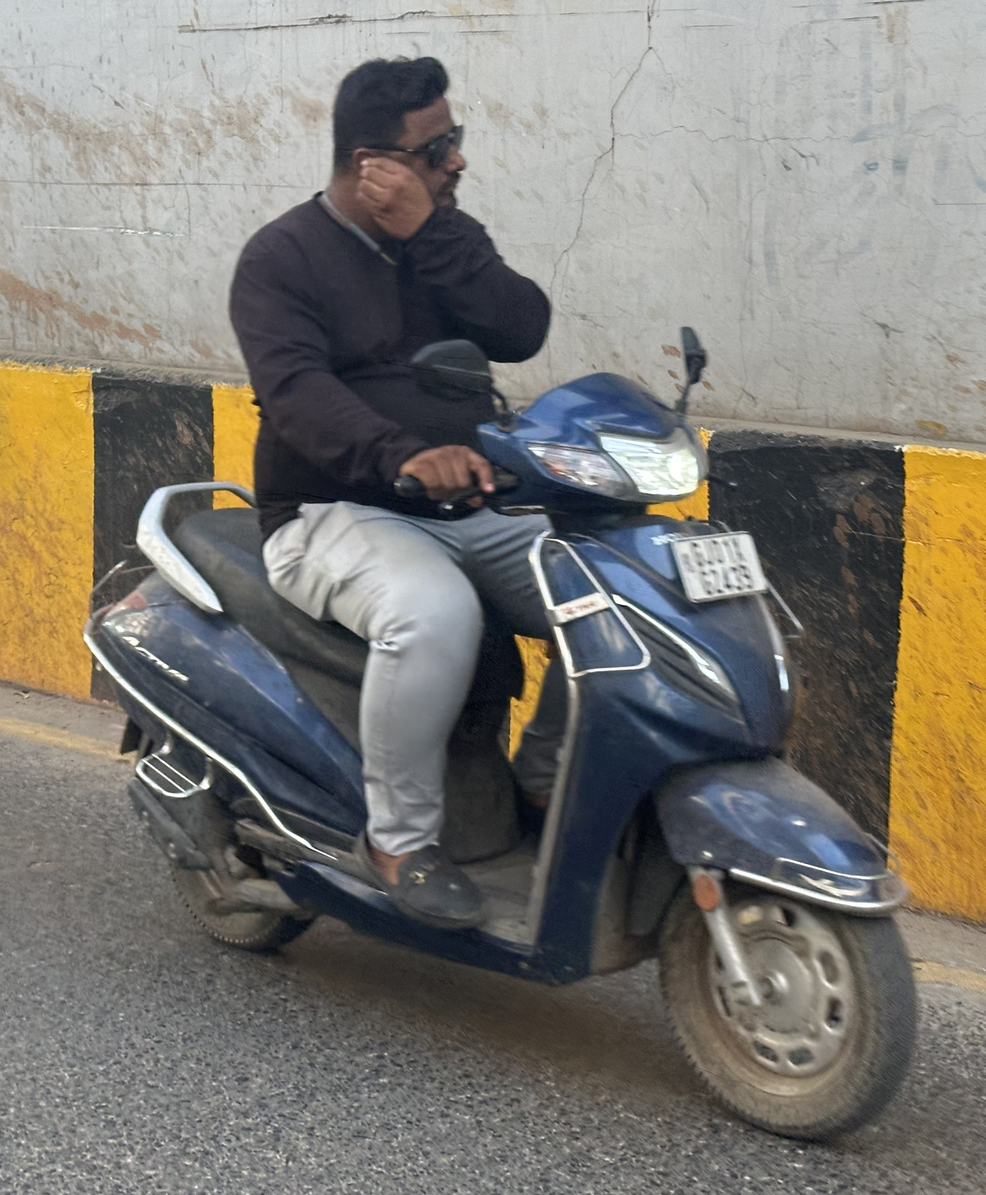BikeWithRider: (76, 50, 926, 1147)
NoHelmet: (320, 52, 477, 225)
